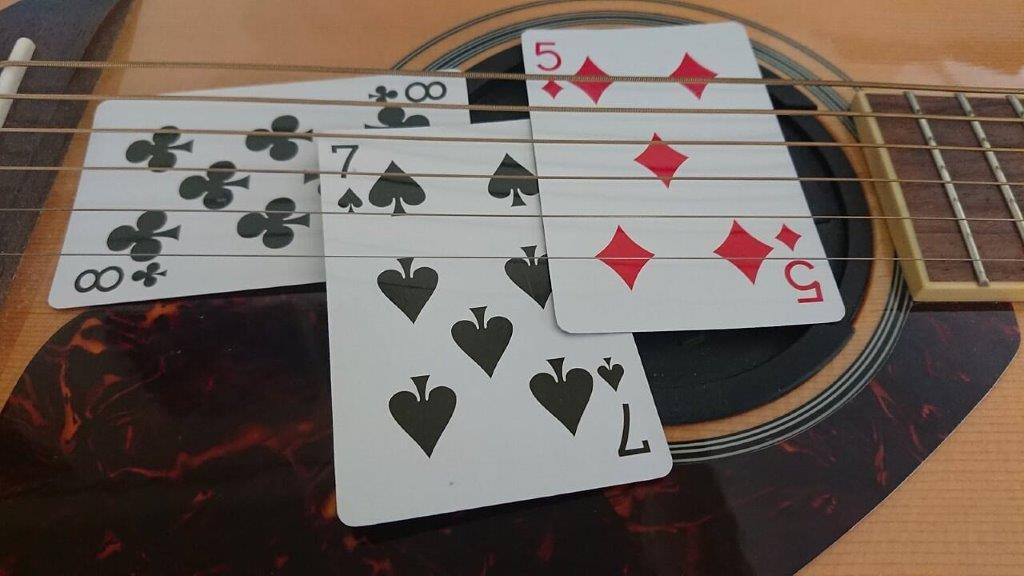5D: (528, 38, 567, 102)
7S: (324, 140, 365, 215)
